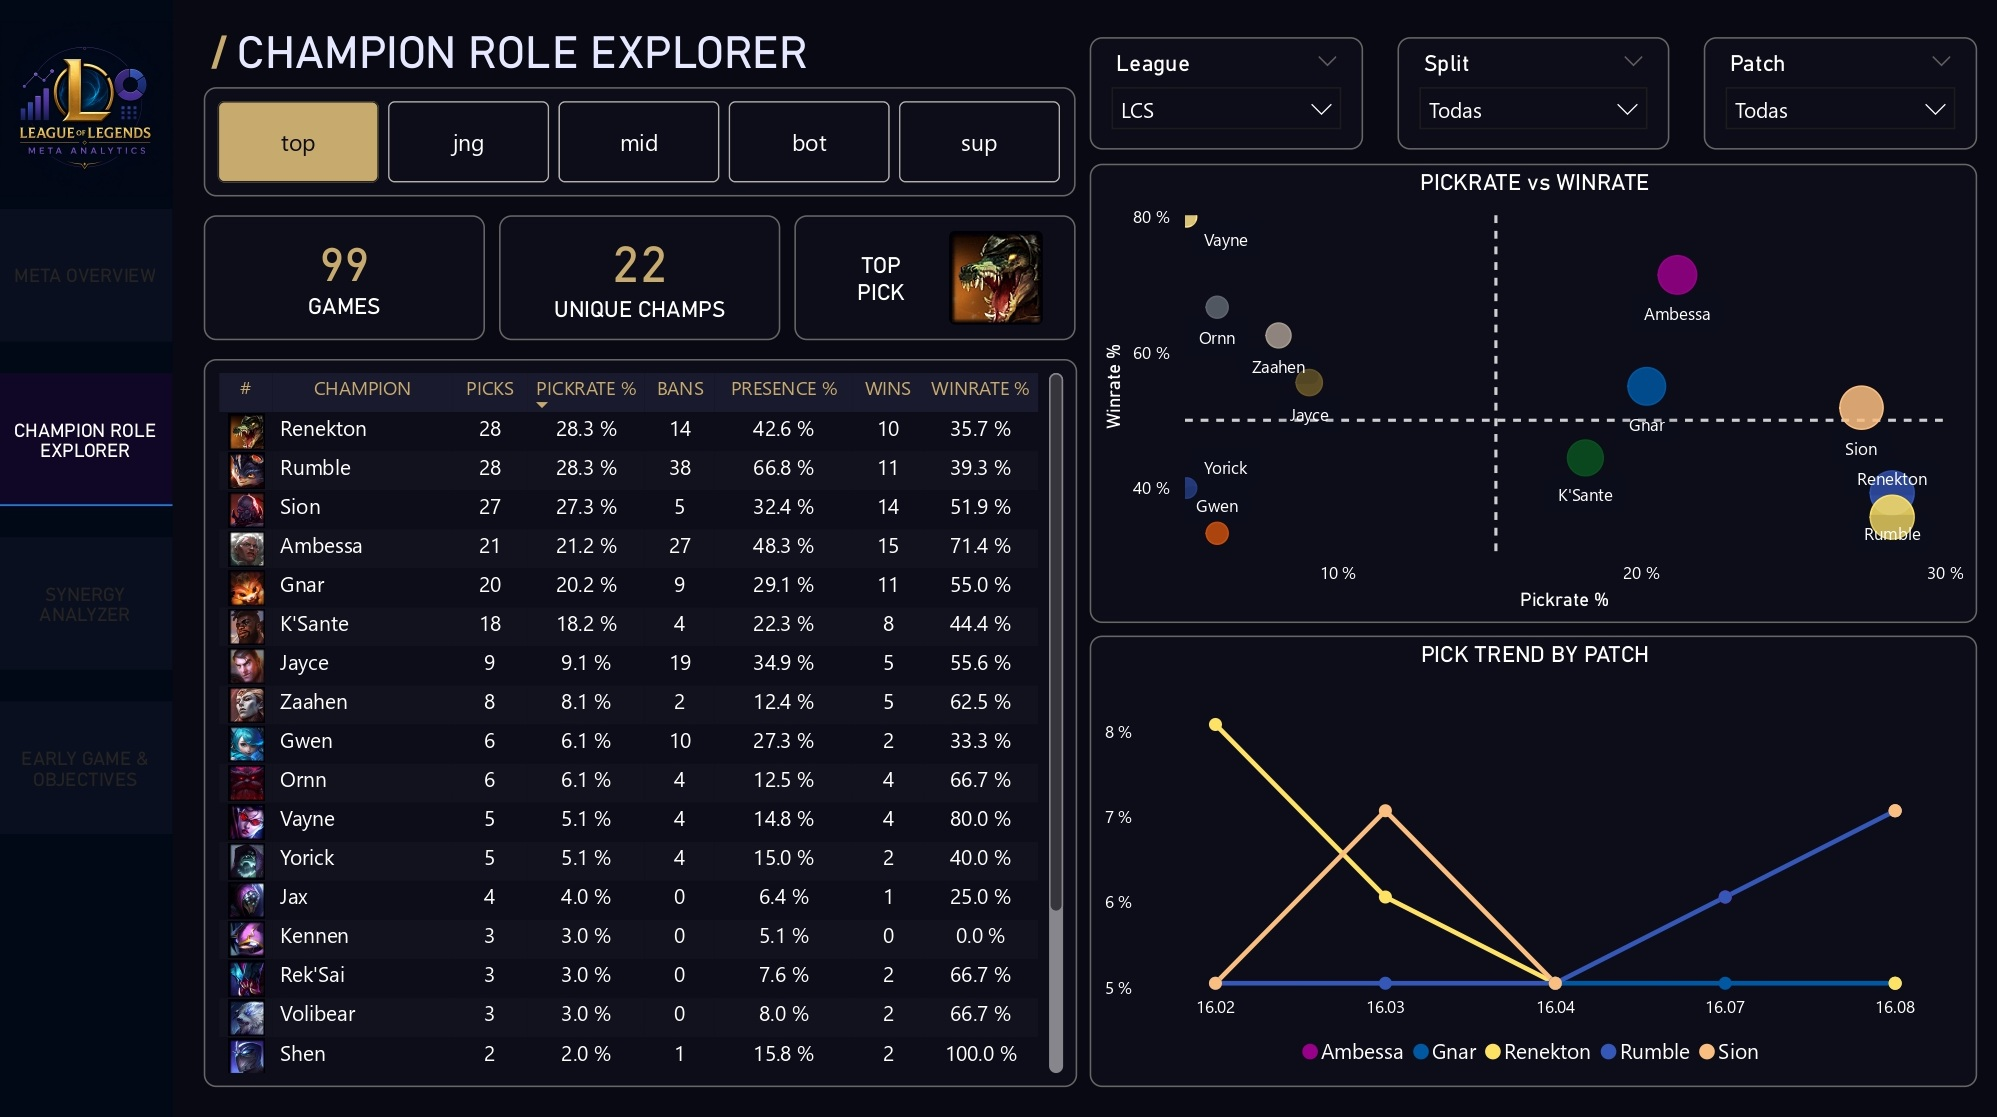

The page's visual inventory and layout, read from the dashboard file:
{"tool":"powerbi","page":{"name":"CHAMPION ROLE EXPLORER","canvas":[1280,720],"ordinal":1},"visuals":[{"type":"slicer","fields":{"Values":["Dim_League.league"]},"box":[699.3,26.3,175.1,72],"z":0},{"type":"cardVisual","fields":{"Data":["Min(_2.Top Pick Role)"]},"box":[509.7,140,179.9,79.8],"z":0,"group":"g2"},{"type":"slicer","fields":{"Values":["Fact_ChampionStats.split"]},"box":[895.8,26.3,174.1,72],"z":1000},{"type":"textbox","box":[519.4,157.5,91.4,48.6],"z":1000,"group":"g2"},{"type":"slicer","fields":{"Values":["Fact_ChampionStats.patch"]},"box":[1092.3,26.3,175.1,72],"z":2000},{"type":"tableEx","fields":{"Values":["Fact_ChampionStats.Champion Icon","Fact_ChampionStats.champion","Sum(Fact_ChampionStats.picks)","_2.Pickrate %","Sum(Fact_ChampionStats.bans)","_1.Presence %","Sum(Fact_ChampionStats.wins)","_1.Winrate %"]},"box":[132.3,232.5,558.3,465.9],"z":3000},{"type":"textbox","box":[132.3,13.6,558.3,43.8],"z":4000},{"type":"group","id":"g1","title":"Grupo 1","box":[0,0,111.6,719.9],"z":5000},{"type":"advancedSlicerVisual","fields":{"Values":["Dim_Champion.primary_role"]},"box":[132.3,58.4,557.3,70],"z":6000},{"type":"shape","box":[0,0,111.6,719.9],"z":7000,"group":"g1"},{"type":"cardVisual","fields":{"Data":["_1.Total Games"]},"box":[132.3,140,179.9,79.8],"z":7000},{"type":"cardVisual","fields":{"Data":["_2.Unique Champs Role"]},"box":[321,140,179.9,79.8],"z":8000},{"type":"group","id":"g2","title":"Grupo 2","box":[509.7,140,179.9,79.8],"z":9000},{"type":"scatterChart","title":"PICKRATE vs WINRATE","fields":{"X":["_2.Pickrate %"],"Y":["_1.Winrate %"],"Size":["Sum(Fact_ChampionStats.picks)"],"Series":["Fact_ChampionStats.champion"]},"box":[699.3,107,568,293.7],"z":10000},{"type":"lineChart","title":"PICK TREND BY PATCH","fields":{"Category":["Fact_ChampionStats.patch"],"Series":["Fact_ChampionStats.champion"],"Y":["_2.Pickrate Trend"]},"box":[699.3,409.5,568,288.9],"z":11000},{"type":"pageNavigator","box":[0,135.7,111.6,400.4],"z":12000,"group":"g1"},{"type":"image","box":[0,13.5,111.6,116.5],"z":13000,"group":"g1"}]}

Visuals, with their boxes on the page's 1280x720 design canvas (x1, y1, x2, y2). These are canvas units, not pixel positions in the 1997x1117 screenshot, which may show the page scaled, cropped or inside an application window:
slicer - Dim_League.league: x1=699 y1=26 x2=874 y2=98
cardVisual - Min(_2.Top Pick Role): x1=510 y1=140 x2=690 y2=220
slicer - Fact_ChampionStats.split: x1=896 y1=26 x2=1070 y2=98
textbox: x1=519 y1=158 x2=611 y2=206
slicer - Fact_ChampionStats.patch: x1=1092 y1=26 x2=1267 y2=98
tableEx - Fact_ChampionStats.Champion Icon x Fact_ChampionStats.champion: x1=132 y1=232 x2=691 y2=698
textbox: x1=132 y1=14 x2=691 y2=57
"Grupo 1" group: x1=0 y1=0 x2=112 y2=720
advancedSlicerVisual - Dim_Champion.primary_role: x1=132 y1=58 x2=690 y2=128
shape: x1=0 y1=0 x2=112 y2=720
cardVisual - _1.Total Games: x1=132 y1=140 x2=312 y2=220
cardVisual - _2.Unique Champs Role: x1=321 y1=140 x2=501 y2=220
"Grupo 2" group: x1=510 y1=140 x2=690 y2=220
"PICKRATE vs WINRATE" scatterChart: x1=699 y1=107 x2=1267 y2=401
"PICK TREND BY PATCH" lineChart: x1=699 y1=410 x2=1267 y2=698
pageNavigator: x1=0 y1=136 x2=112 y2=536
image: x1=0 y1=14 x2=112 y2=130
